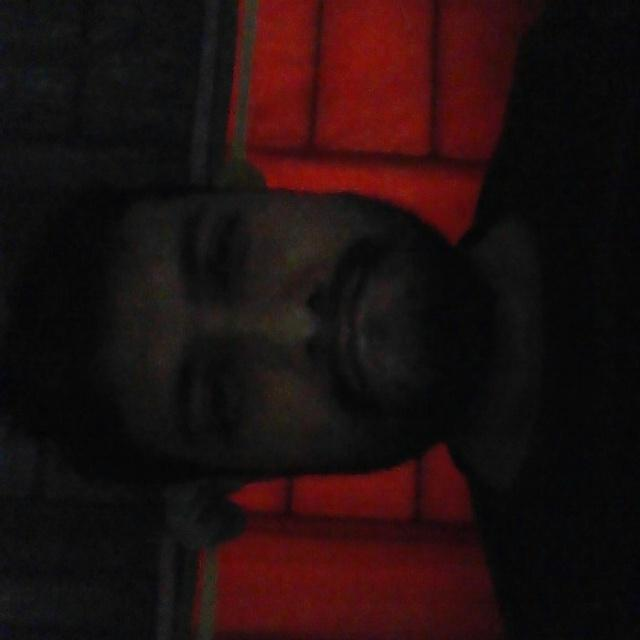Sad: (124, 142, 480, 554)
